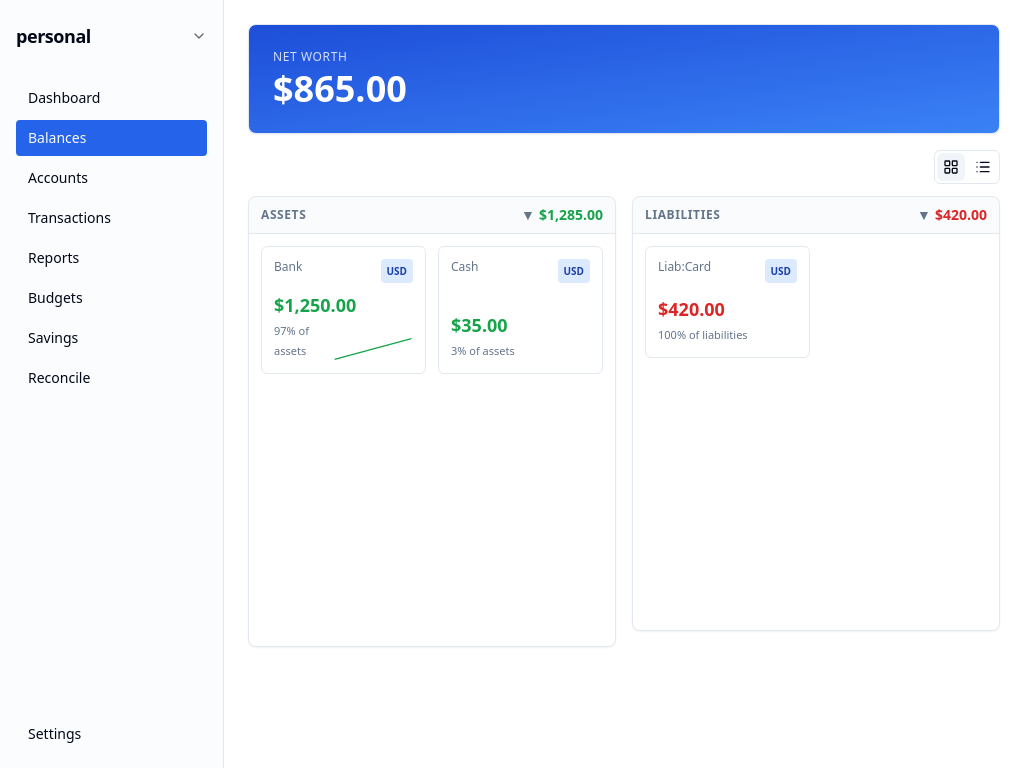
Test: toggling the Assets sort changes only the Assets arrow
This screenshot has width=1024, height=768.
Step 1. Click the button named "Balance" → (562, 215), box [521,205,603,225]
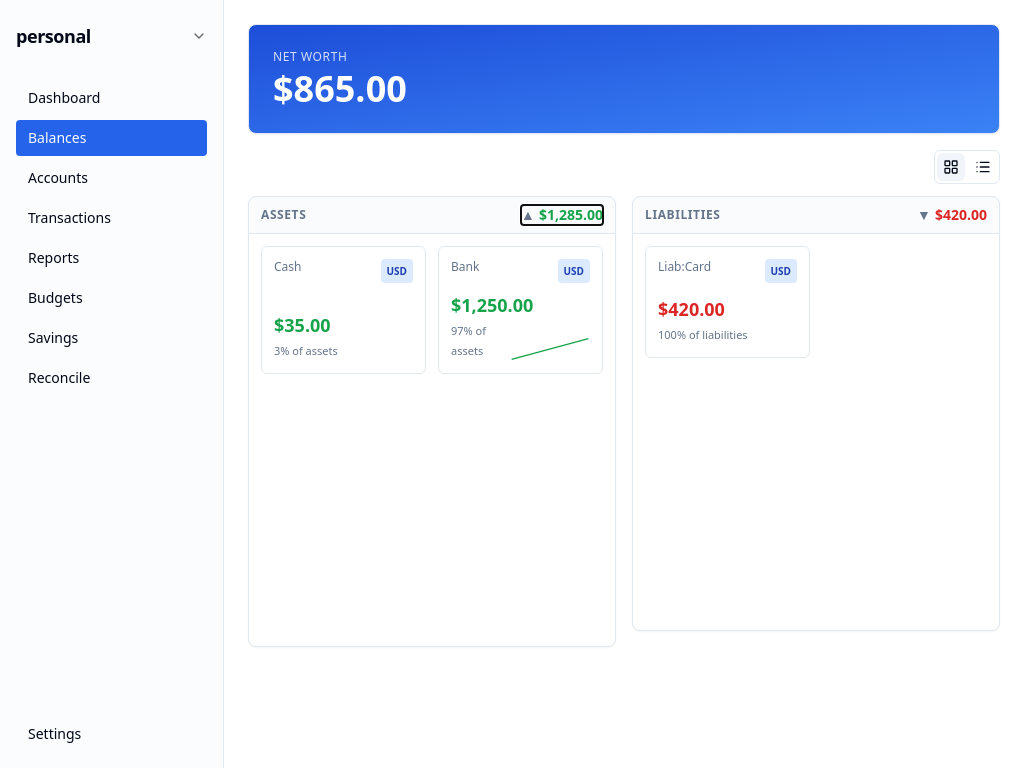
Expected: the button named "Balance" shows "▼", [917,205,987,225]
Expected: the button named "Balance" shows "▲", [521,205,603,225]
